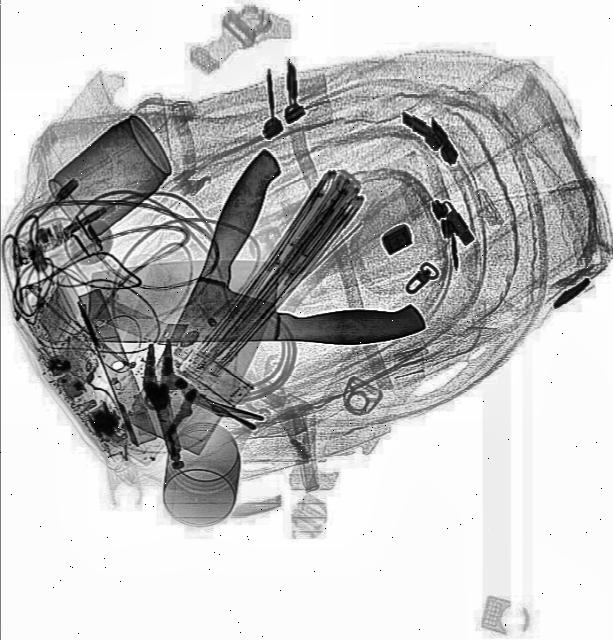Knife: (116, 143, 338, 454), (86, 250, 424, 354)
